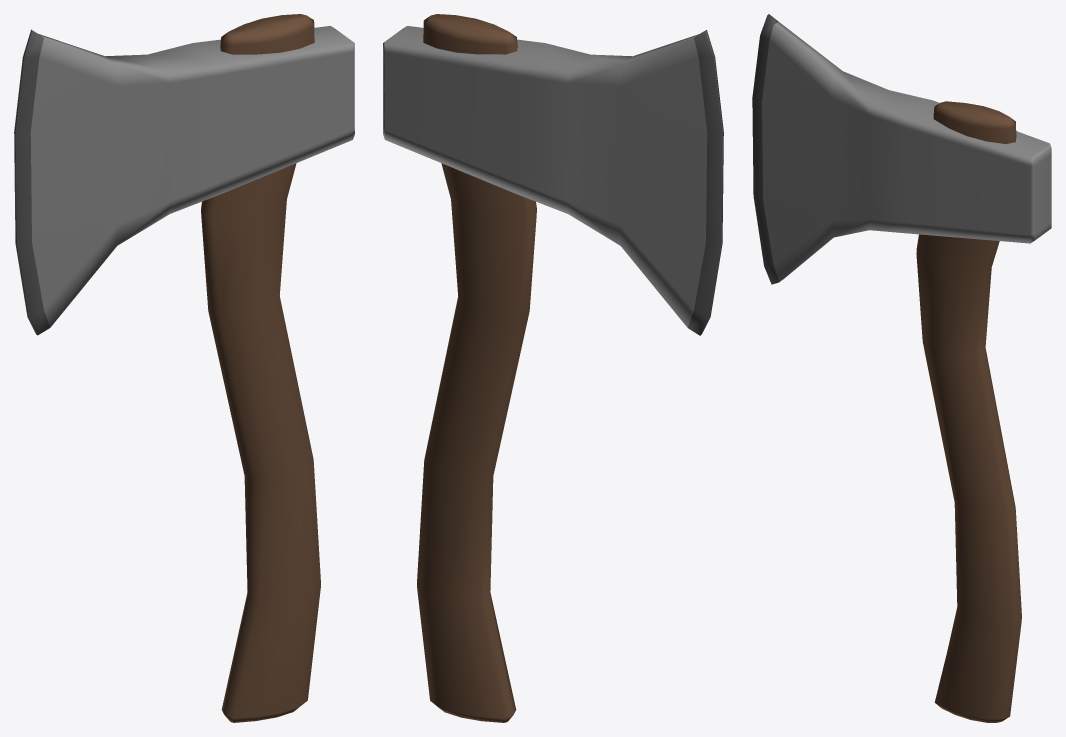
Rendered from axe3.fbx.
The picture shows the model from 3 angles, left to right: view 1: azimuth 30°, elevation 25°; view 2: azimuth 150°, elevation 25°; view 3: azimuth 330°, elevation 25°; orthographic projection. The views are drawn at different scales.
Parts seen in each view (by area): view 1: axeHead, axeVariant3; view 2: axeHead, axeVariant3; view 3: axeHead, axeVariant3.
Part boxes in pixels (x1=…): axeHead: x1=14, y1=26, x2=354, y2=335; axeVariant3: x1=201, y1=14, x2=320, y2=722; axeHead: x1=383, y1=26, x2=723, y2=335; axeVariant3: x1=417, y1=14, x2=536, y2=722; axeHead: x1=752, y1=14, x2=1051, y2=284; axeVariant3: x1=916, y1=101, x2=1021, y2=722.
Size of the model in its own units: 6.97 by 14.92 by 1.
